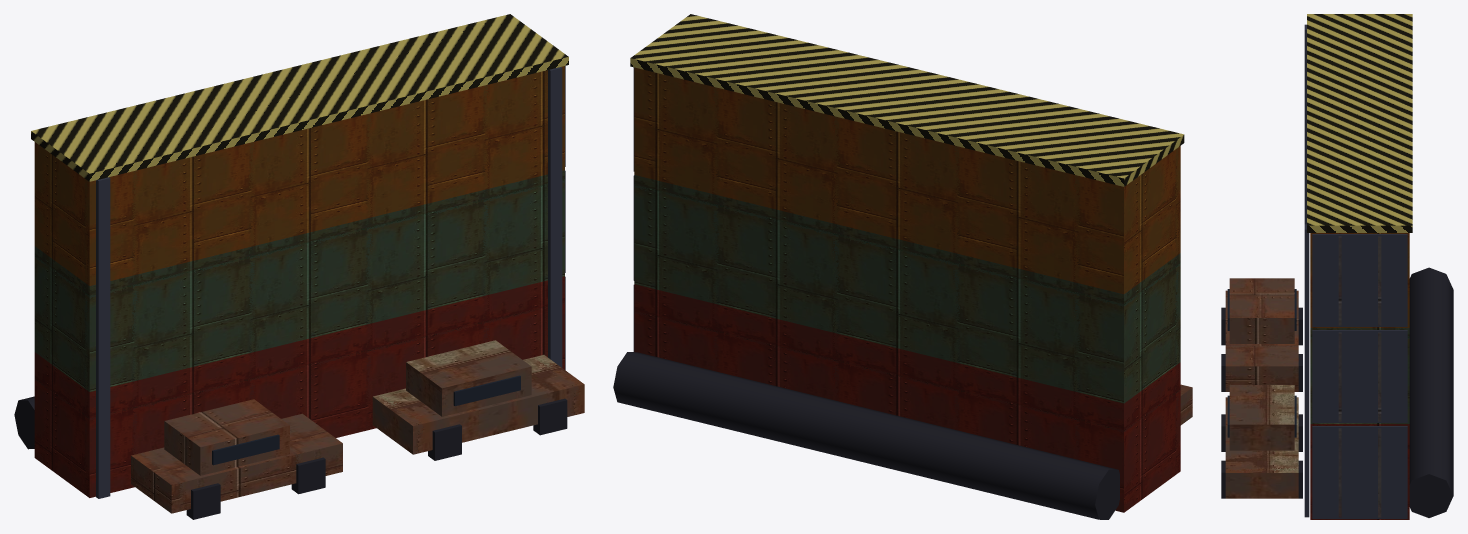
The model's file is arena_wall_segment.glb.
The picture shows the model from 3 angles, left to right: view 1: azimuth 30°, elevation 25°; view 2: azimuth 150°, elevation 25°; view 3: azimuth 270°, elevation 25°; orthographic projection. The views are drawn at different scales.
Visible parts, largest first — view 1: arena_wall_segment; view 2: arena_wall_segment; view 3: arena_wall_segment.
Boxes of the visible parts, x1,y1,x2,y2 form: arena_wall_segment: (14,14,584,519); arena_wall_segment: (613,14,1192,519); arena_wall_segment: (1221,14,1453,519).
Size of the model in its own units: 12.33 by 8 by 5.7.
10 materials, 7 textured.
